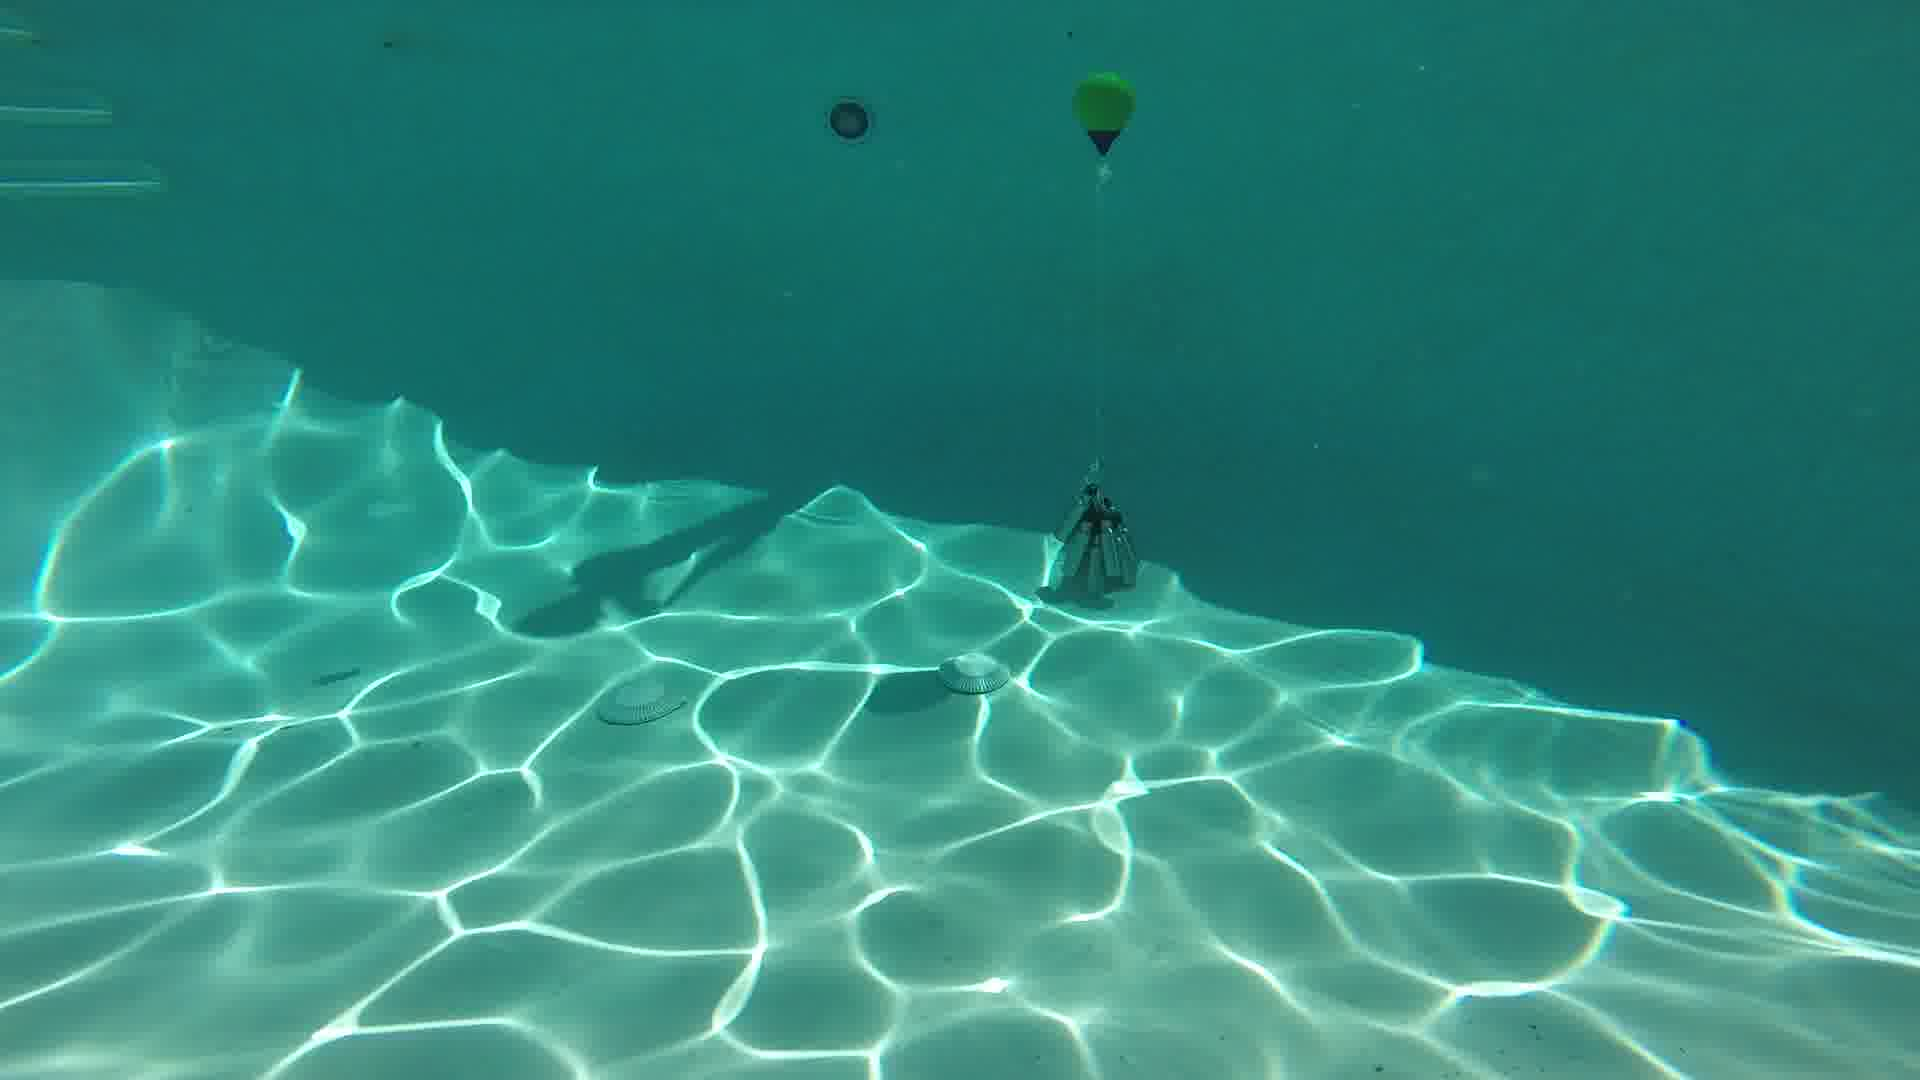yellow_buoy: (1073, 73, 1134, 156)
